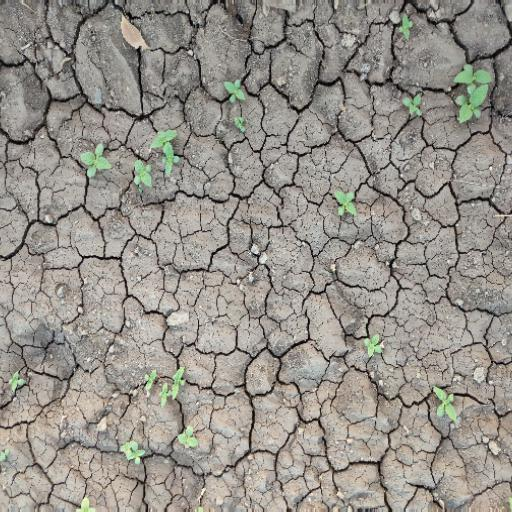crop: (75, 135, 189, 190), (453, 63, 492, 142), (139, 368, 195, 401), (225, 74, 250, 140), (431, 384, 464, 425), (329, 185, 359, 217), (114, 440, 148, 468), (173, 423, 202, 453), (403, 89, 426, 118), (362, 335, 389, 358), (393, 13, 415, 39)
